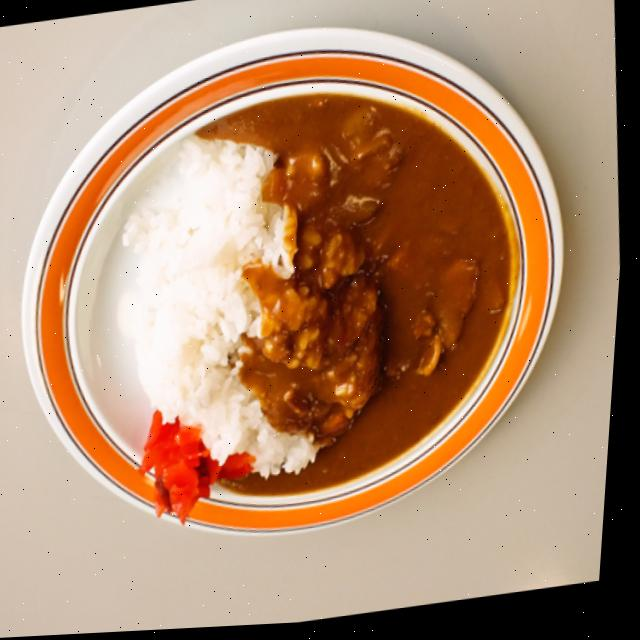Wet: (98, 71, 544, 528)
